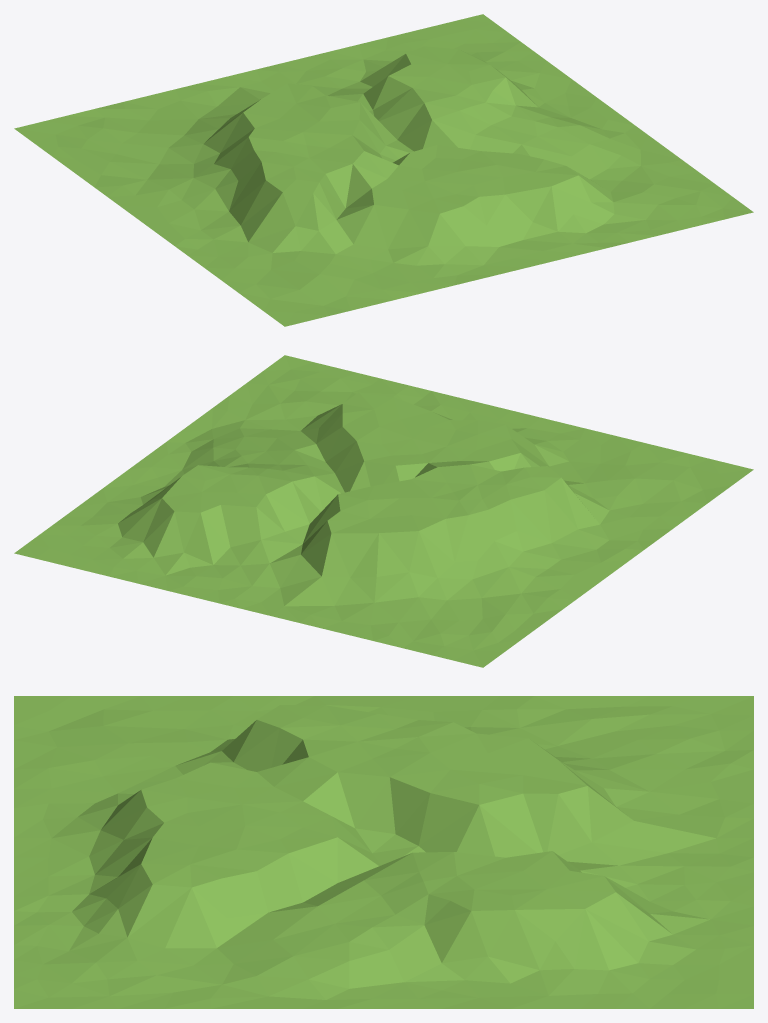
File: MT_Terrain_M_d_18_LOD.fbx
3 renders of one model, top to bottom at view 1: azimuth 30°, elevation 25°; view 2: azimuth 150°, elevation 25°; view 3: azimuth 270°, elevation 25°, orthographic. The views are drawn at different scales.
Parts seen in each view (by area): view 1: MT_Terrain_M_d_18_LOD0; view 2: MT_Terrain_M_d_18_LOD0; view 3: MT_Terrain_M_d_18_LOD0.
Part boxes in pixels (x1,y1,x2,y2): MT_Terrain_M_d_18_LOD0: [14, 14, 753, 326]; MT_Terrain_M_d_18_LOD0: [14, 355, 753, 667]; MT_Terrain_M_d_18_LOD0: [14, 696, 753, 1008].
Size of what is drawn, in the model's own units: 5000 by 434 by 5000.
